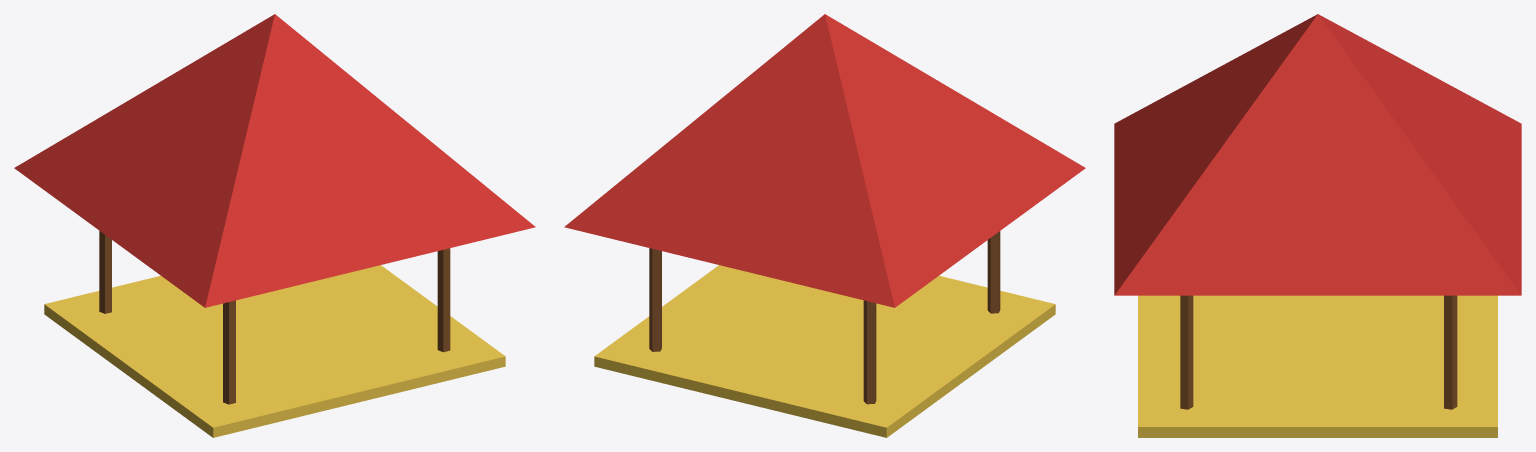
Rendered from merchant_tent.fbx.
3 views of the same model, side by side, from view 1: azimuth 30°, elevation 25°; view 2: azimuth 150°, elevation 25°; view 3: azimuth 270°, elevation 25° (orthographic). The views are drawn at different scales.
Parts seen in each view (by area): view 1: merchant_tent; view 2: merchant_tent; view 3: merchant_tent.
Boxes of the visible parts, <box> form: merchant_tent: <box>14,14,535,437</box>; merchant_tent: <box>564,14,1085,437</box>; merchant_tent: <box>1114,14,1521,437</box>.
Bounding box in the file's own units: 3.39 × 3.2 × 3.39.
